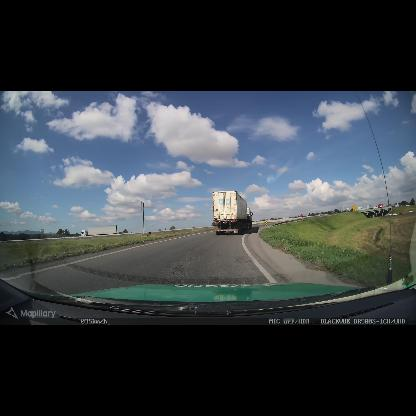O-MP: (265, 220, 268, 226)
R-2: (301, 214, 303, 217)
R-24a: (265, 217, 267, 220)
